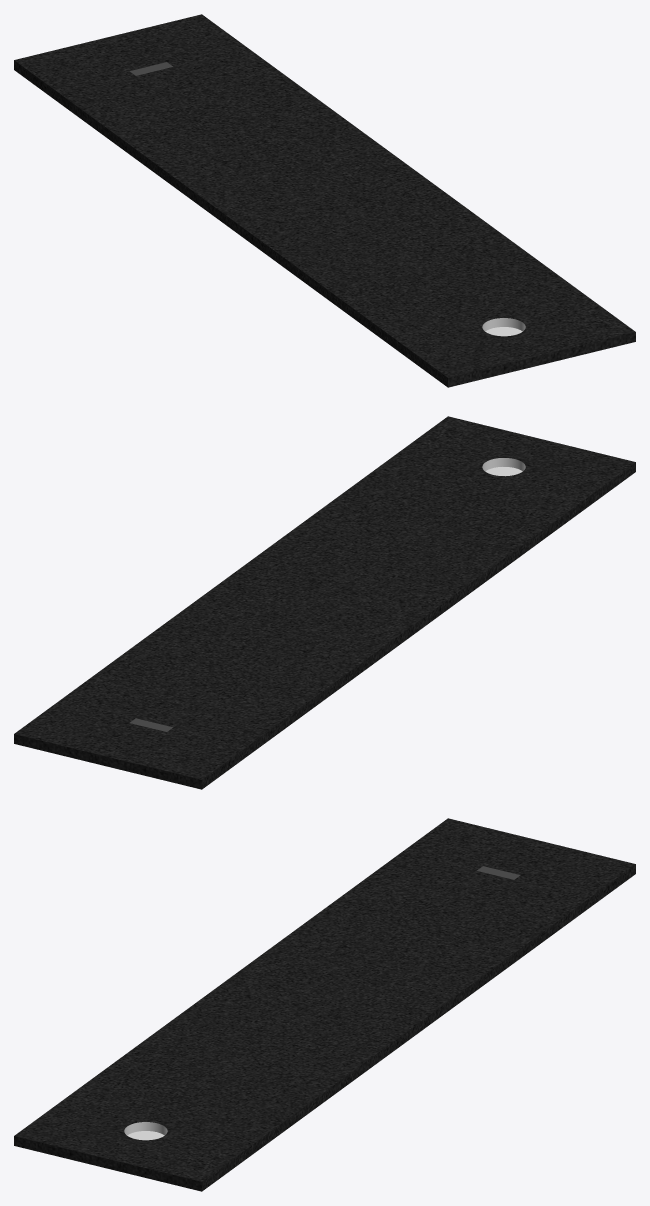
Rendered from Practice Hole Base.glb.
3 renders of one model, top to bottom at view 1: azimuth 30°, elevation 25°; view 2: azimuth 150°, elevation 25°; view 3: azimuth 330°, elevation 25°, orthographic.
Parts seen in each view (by area): view 1: Practice Hole Base; view 2: Practice Hole Base; view 3: Practice Hole Base.
Part boxes in pixels (box(x1,y1,x2,y2)): Practice Hole Base: box(14, 14, 635, 387); Practice Hole Base: box(14, 416, 635, 789); Practice Hole Base: box(14, 818, 635, 1191).
Size of what is drawn, in the model's own units: 2 by 0.101 by 8.
Materials: 3 (1 with a texture image).
